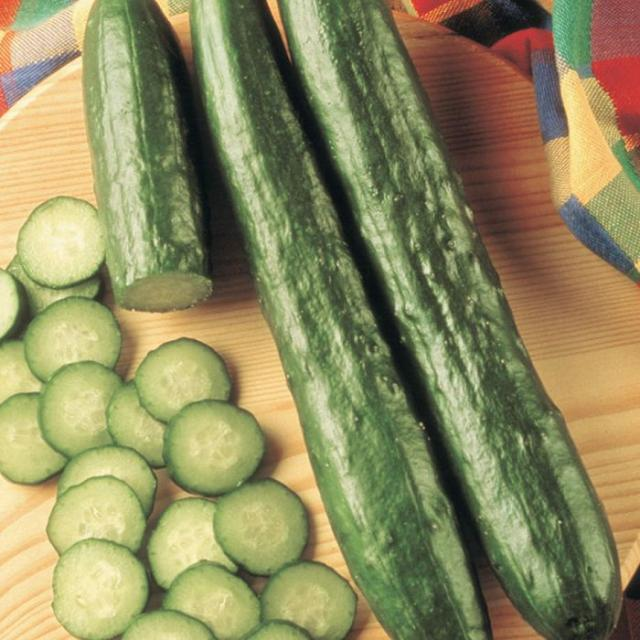Pickle: (281, 0, 619, 640), (191, 0, 484, 640), (82, 0, 212, 311), (52, 539, 149, 640), (164, 400, 265, 495), (214, 479, 309, 574), (24, 296, 121, 381), (148, 498, 238, 588), (134, 339, 231, 422), (18, 196, 105, 288), (40, 361, 121, 458), (260, 560, 358, 640), (46, 476, 146, 554), (162, 561, 260, 640), (58, 445, 158, 516), (0, 394, 68, 483), (106, 381, 166, 467), (121, 610, 216, 639), (1, 269, 21, 339)
